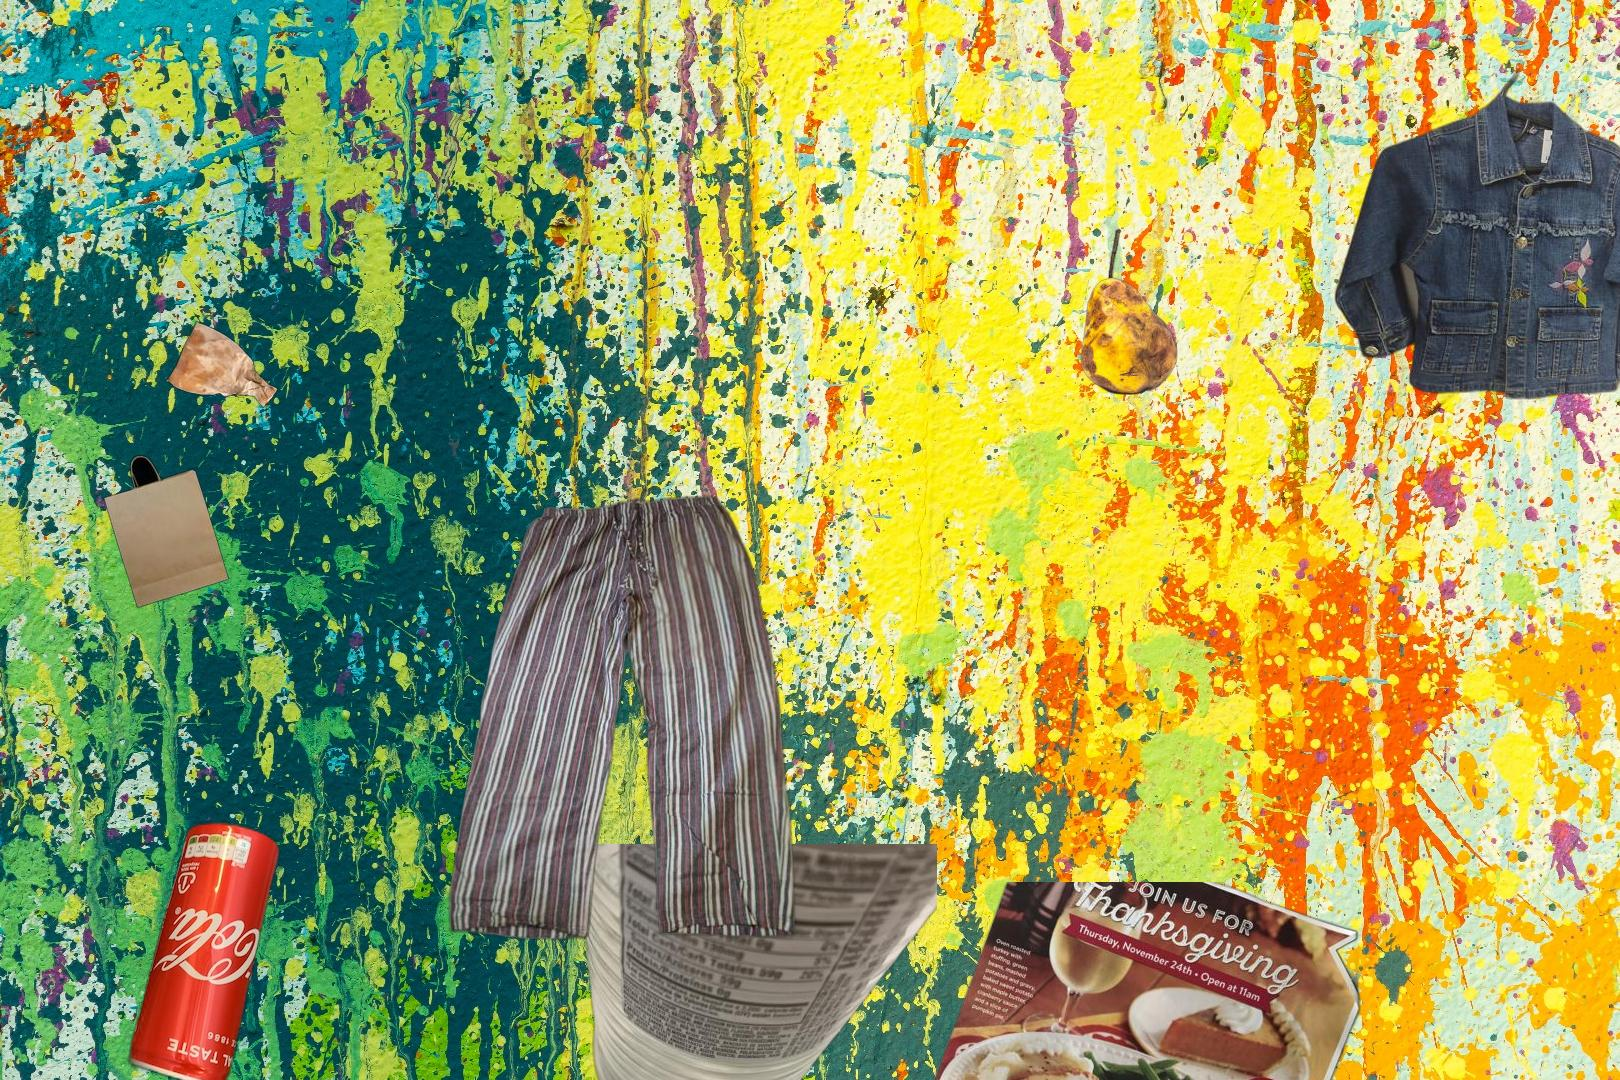biological: (1078, 225, 1180, 397)
clothes: (445, 491, 802, 944), (1332, 60, 1620, 404)
glass: (573, 844, 937, 1080)
metal-cans: (121, 816, 284, 1080)
paper: (923, 882, 1364, 1080)
paper-bag: (102, 319, 281, 611)
